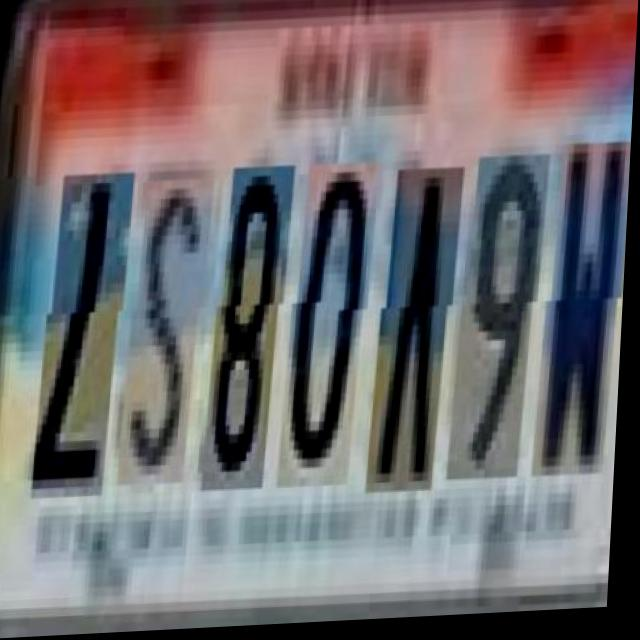6: (451, 161, 544, 486)
7: (35, 176, 128, 500)
8: (205, 169, 290, 494)
m: (536, 149, 629, 484)
o: (281, 167, 374, 491)
s: (120, 181, 208, 489)
v: (370, 173, 458, 498)
